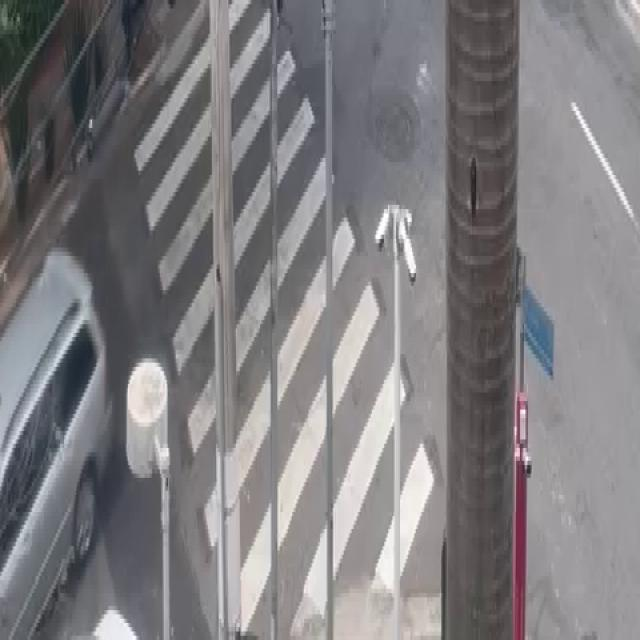car: (0, 258, 119, 640)
